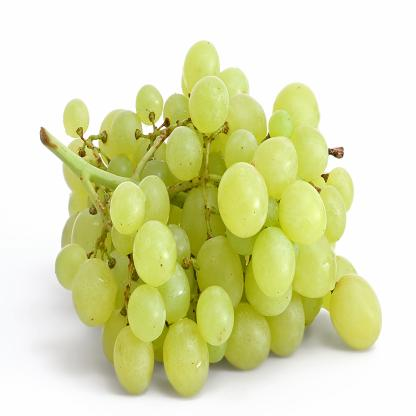--: (24, 20, 415, 416)
